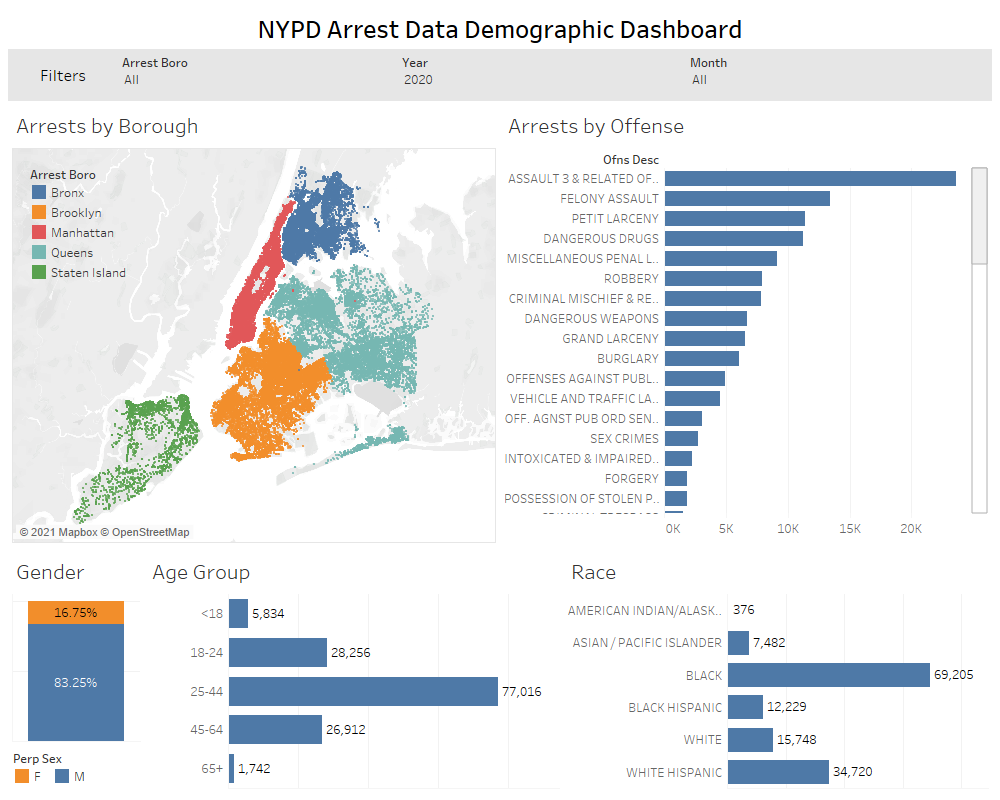

Layout of this report page (visuals, bound fields, positions):
{"tool":"tableau","page":{"name":"NYPD Arrest Data Demographic Dashboard","canvas":[1000,800],"ordinal":0},"visuals":[{"type":"title","box":[8,8,984,41]},{"type":"text","box":[8,49,110,52]},{"type":"filter","title":"Arrests by Offense Type","param":"[federated.0u0g2jr0y9b0lh1fggo9v036ljvq].[none:ARREST_BORO:nk]","box":[118,49,280,52]},{"type":"filter","title":"Arrests by Offense Type","param":"[federated.0u0g2jr0y9b0lh1fggo9v036ljvq].[yr:ARREST_DATE:ok]","box":[398,49,288,52]},{"type":"filter","title":"Arrests by Offense Type","param":"[federated.0u0g2jr0y9b0lh1fggo9v036ljvq].[mn:ARREST_DATE:ok]","box":[686,49,306,52]},{"type":"worksheet","title":"Arrests by Borough","mark":"Automatic","rows":["Latitude"],"cols":["Longitude"],"box":[8,101,492,445.8]},{"type":"worksheet","title":"Arrests by Offense Type","mark":"Automatic","rows":["OFNS_DESC"],"cols":["ARREST_DATE"],"box":[500,101,492,445.8]},{"type":"legend","title":"Arrests by Borough","param":"[federated.0u0g2jr0y9b0lh1fggo9v036ljvq].[none:ARREST_BORO:nk]","box":[29,164,140,118]},{"type":"worksheet","title":"Gender","mark":"Automatic","rows":["ARREST_DATE"],"box":[8,546.8,136,197.5]},{"type":"worksheet","title":"Age Group","mark":"Automatic","rows":["AGE_GROUP"],"cols":["ARREST_DATE"],"box":[144,546.8,419,245.2]},{"type":"worksheet","title":"Race","mark":"Automatic","rows":["PERP_RACE"],"cols":["ARREST_DATE"],"box":[563,546.8,429,245.2]},{"type":"legend","title":"Gender","param":"[federated.0u0g2jr0y9b0lh1fggo9v036ljvq].[none:PERP_SEX:nk]","box":[8,744.4,136,47.6]}]}

Visuals, with their boxes in screenshot pixels (x1, y1, x2, y2), scaled from the page's 1000x800 canvas onto the 1000x800 screenshot:
title: <region>8, 8, 992, 49</region>
text: <region>8, 49, 118, 101</region>
"Arrests by Offense Type" filter: <region>118, 49, 398, 101</region>
"Arrests by Offense Type" filter: <region>398, 49, 686, 101</region>
"Arrests by Offense Type" filter: <region>686, 49, 992, 101</region>
"Arrests by Borough" worksheet: <region>8, 101, 500, 547</region>
"Arrests by Offense Type" worksheet: <region>500, 101, 992, 547</region>
"Arrests by Borough" legend: <region>29, 164, 169, 282</region>
"Gender" worksheet: <region>8, 547, 144, 744</region>
"Age Group" worksheet: <region>144, 547, 563, 792</region>
"Race" worksheet: <region>563, 547, 992, 792</region>
"Gender" legend: <region>8, 744, 144, 792</region>
